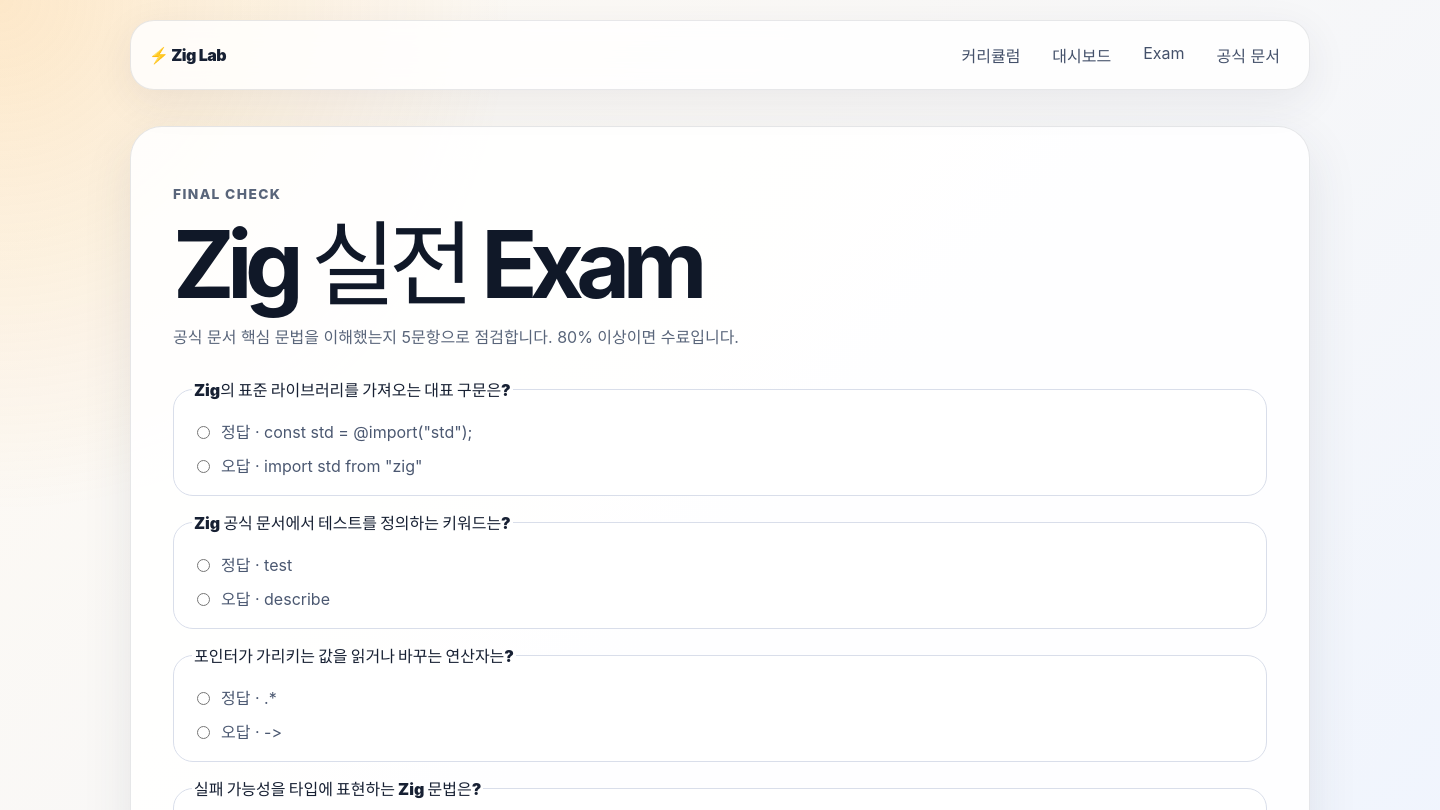
it: Zig Learning Lab › grades an exam and records exam completion when passing
Check: the heading "Zig 실전 Exam" is shown, box [173,208,700,320]
Click the radio button labelled "정답 · const std = @import(\"std\");" at (204, 433), box [197,426,210,439]
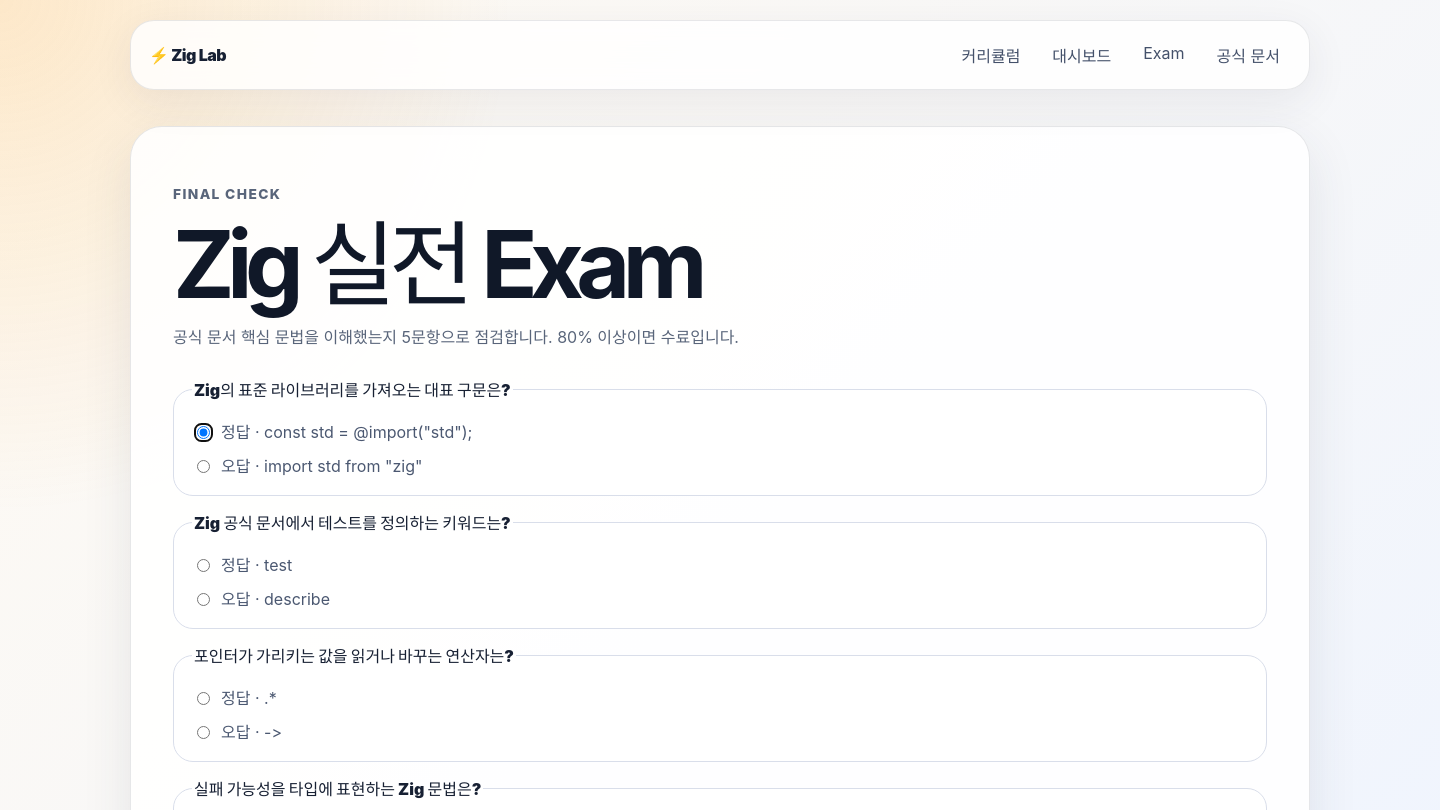
Click the radio button labelled "정답 · test" at (204, 566), box [197,559,210,572]
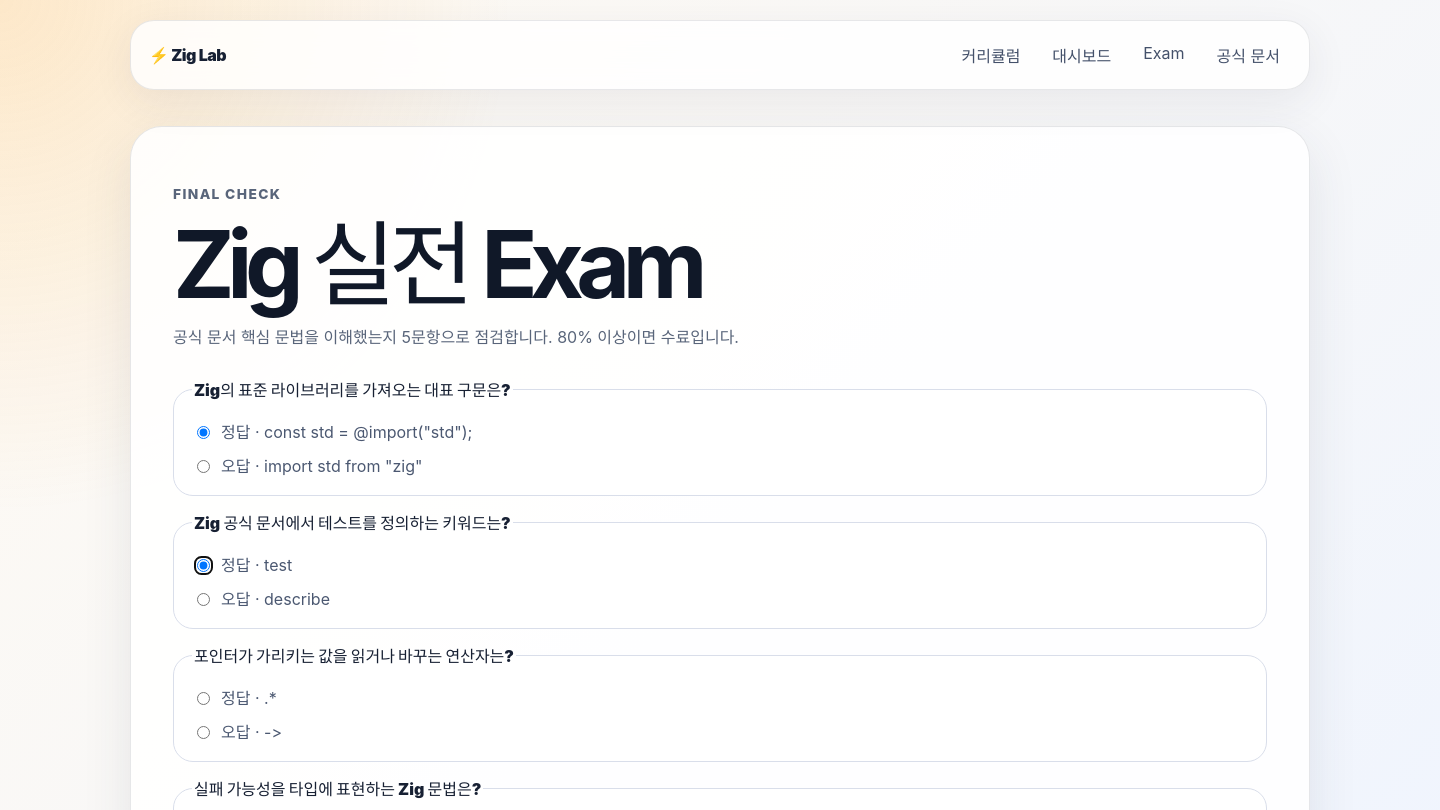
Click the radio button labelled "정답 · .*" at (204, 699), box [197,692,210,705]
(page scrolled)
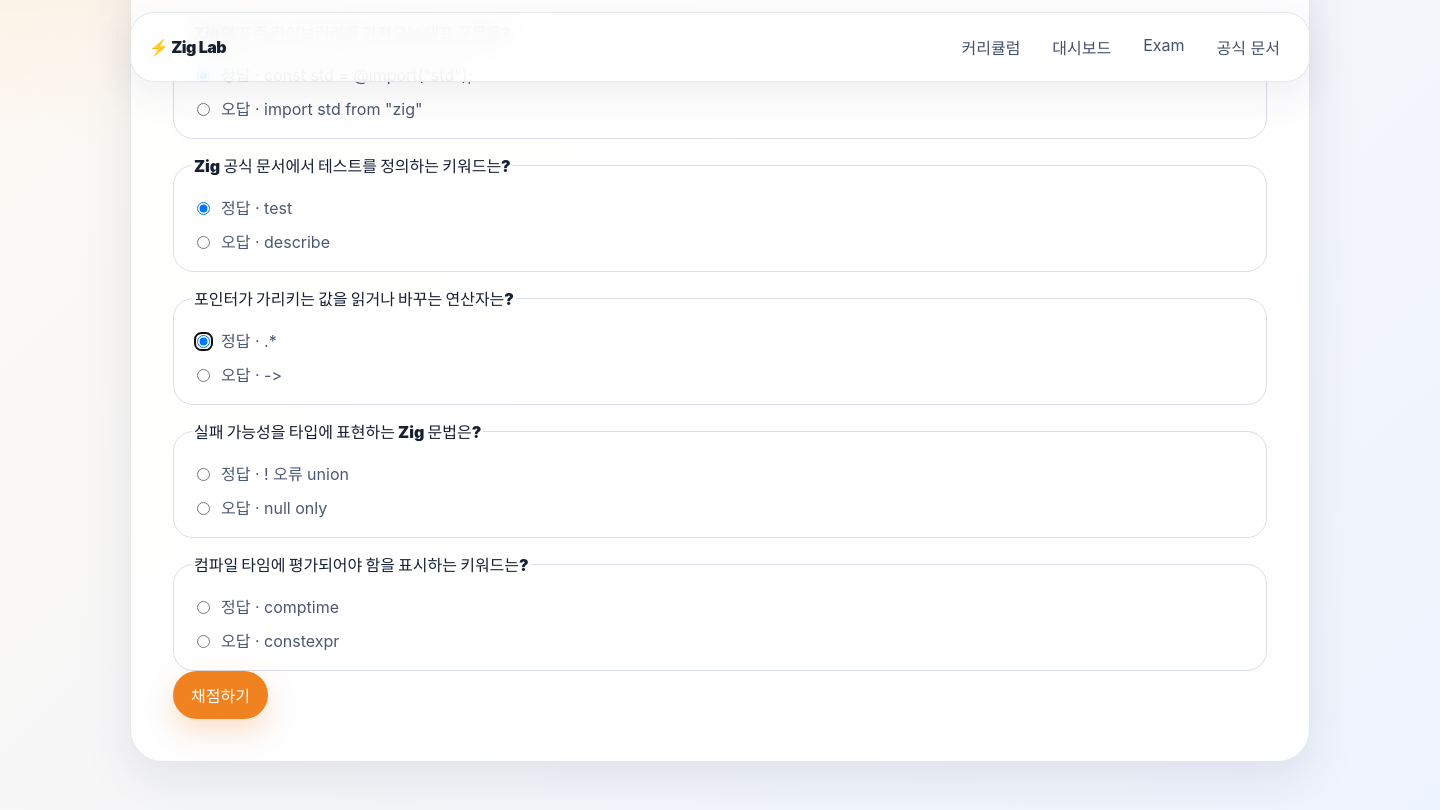
Click the radio button labelled "정답 · ! 오류 union" at (204, 475), box [197,468,210,481]
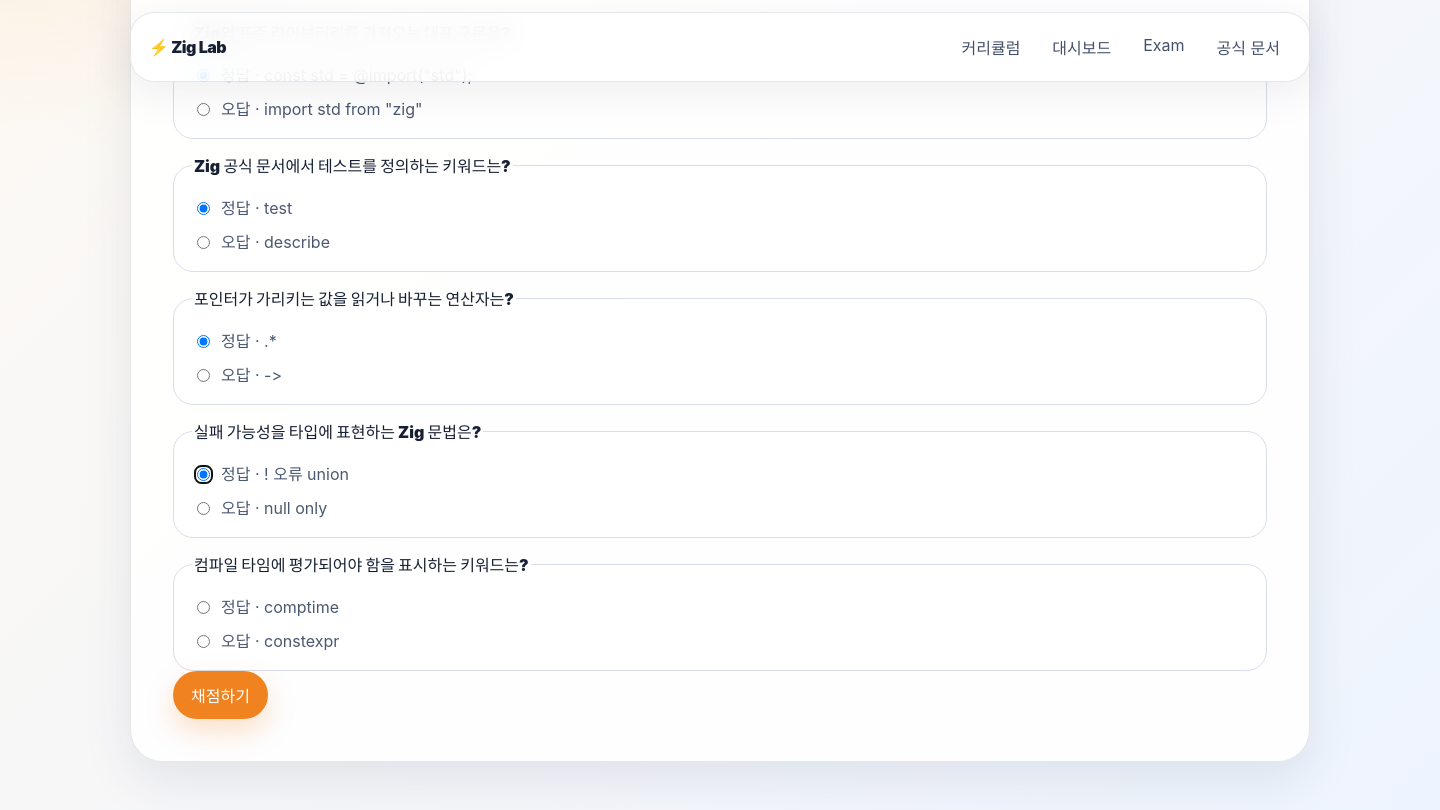
Click the radio button labelled "정답 · comptime" at (204, 608), box [197,601,210,614]
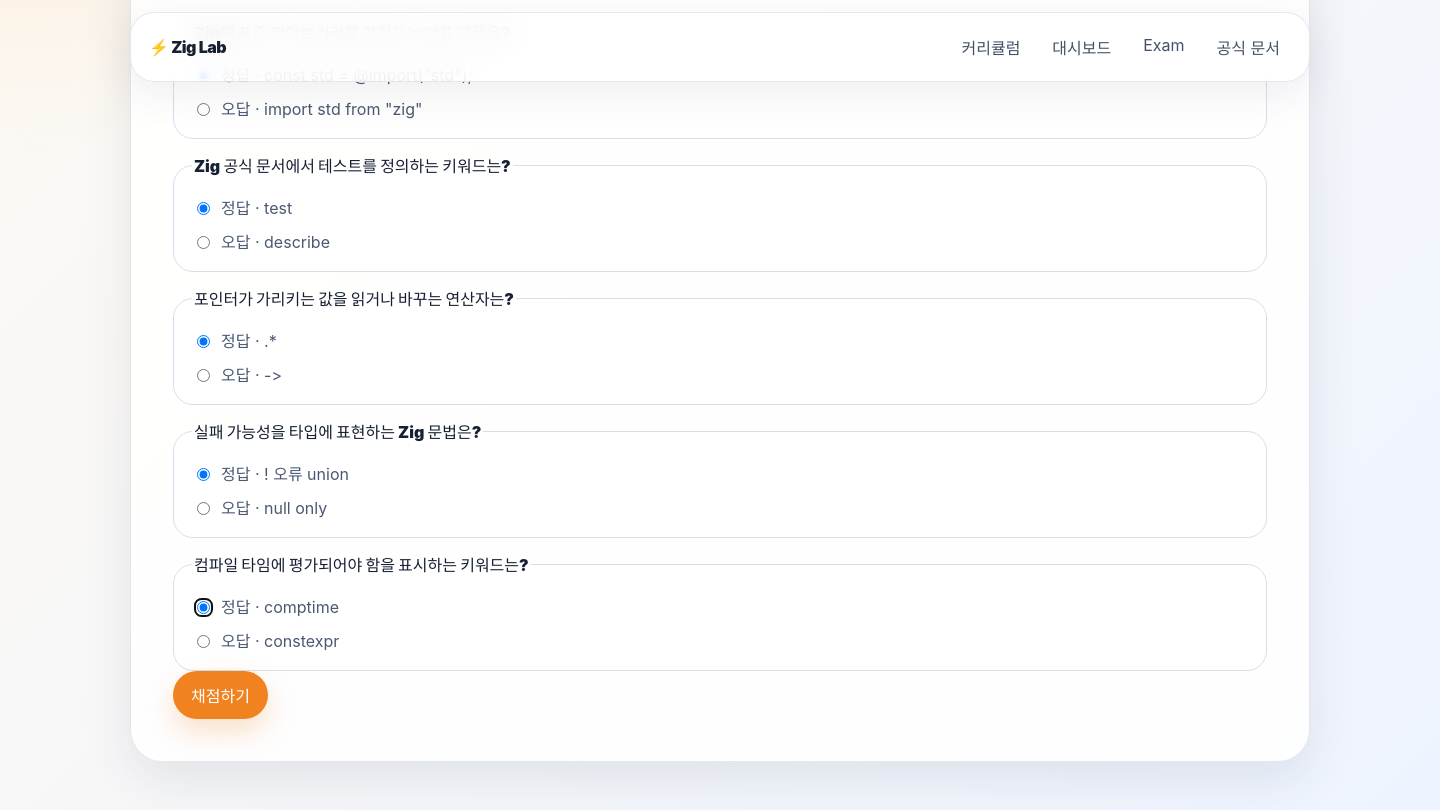
Click the button "채점하기" at (220, 695), box [173,671,268,719]
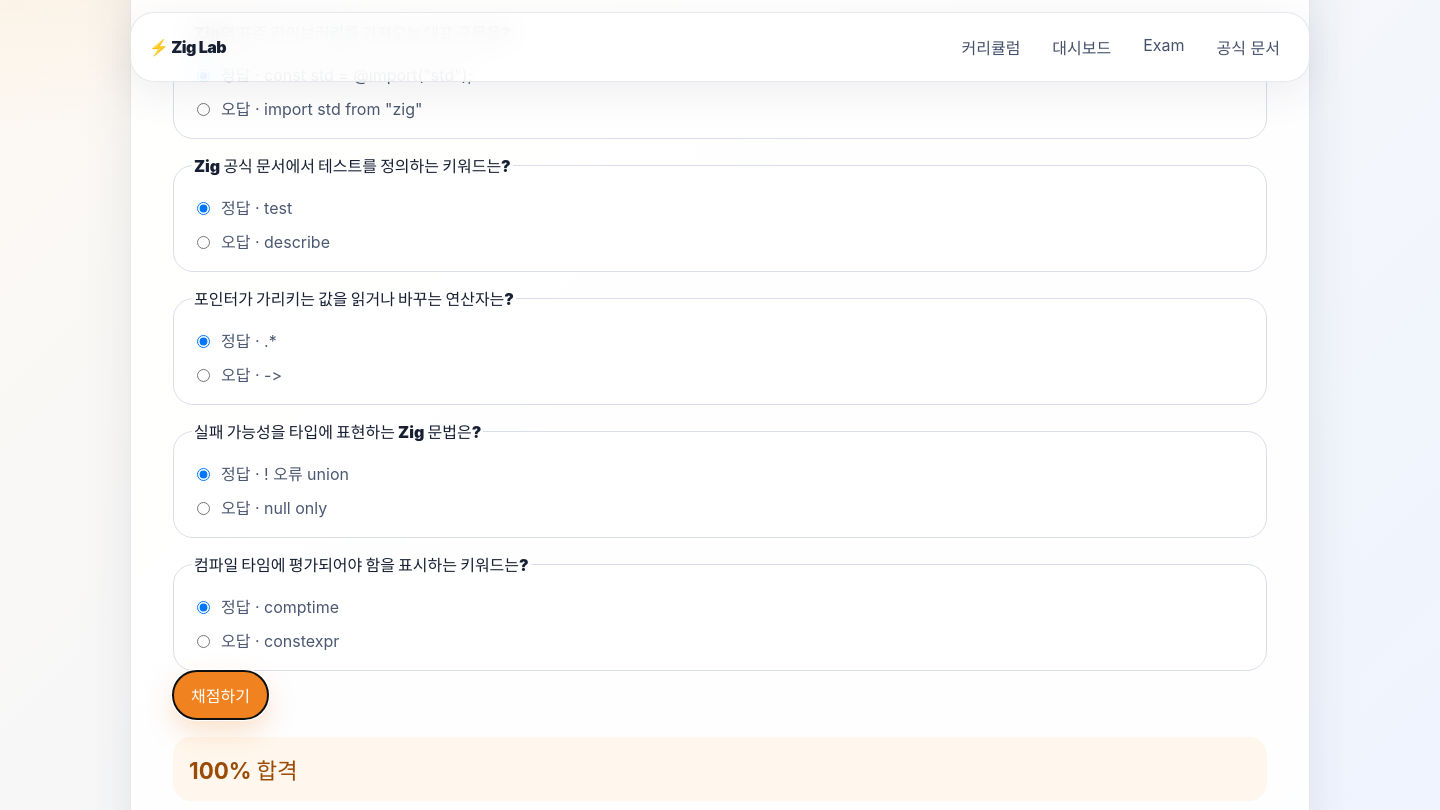
Check: the text "100% 합격" is shown, box [173,737,1267,801]
Check: the text "100%" is shown, box [189,757,252,784]
